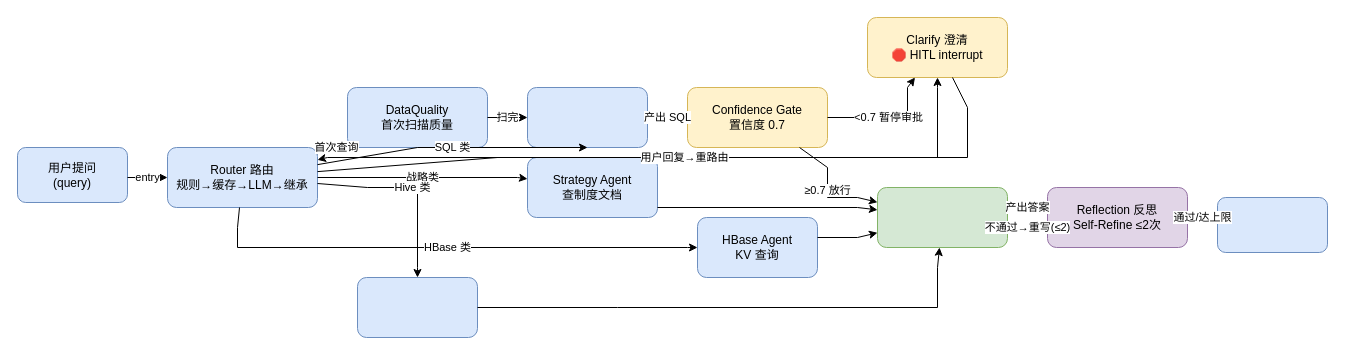
This 1345x355 diagram has some shape labels left out. Here are the shapes that lost their labels. From the top down, the centre of each, then its label:
At pixel 587 117: "SQL Agent 查数据".
At pixel 942 217: "Analysis Agent 分析+画图".
At pixel 1272 224: "最终回答 (END)".
At pixel 417 307: "Hive Agent 数仓查询".
